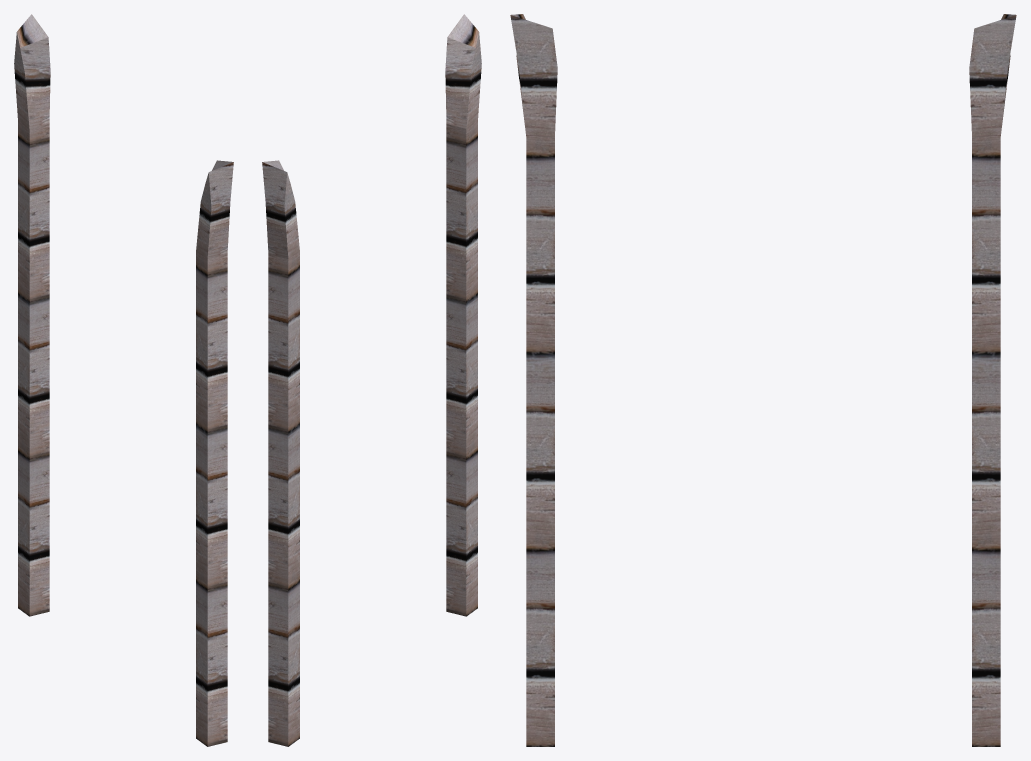
3 views of the same model, side by side, from view 1: azimuth 30°, elevation 25°; view 2: azimuth 150°, elevation 25°; view 3: azimuth 270°, elevation 25° (orthographic). The views are drawn at different scales.
Parts seen in each view (by area): view 1: brid023_woodboard_0; view 2: brid023_woodboard_0; view 3: brid023_woodboard_0.
Part boxes in pixels (x1,y1,x2,y2): brid023_woodboard_0: (14, 14, 233, 746); brid023_woodboard_0: (262, 14, 481, 746); brid023_woodboard_0: (510, 14, 1016, 746).
Bounding box in the file's own units: 0.183 × 5.11 × 3.2.
1 material, 1 textured.
